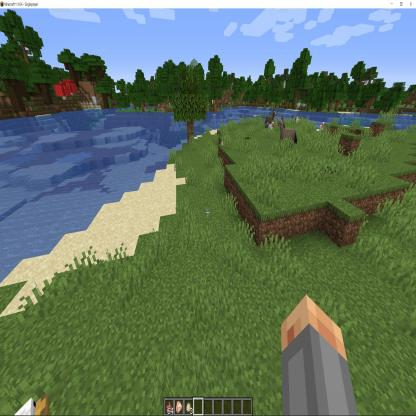minecraft-pigs: (177, 178, 242, 300)
